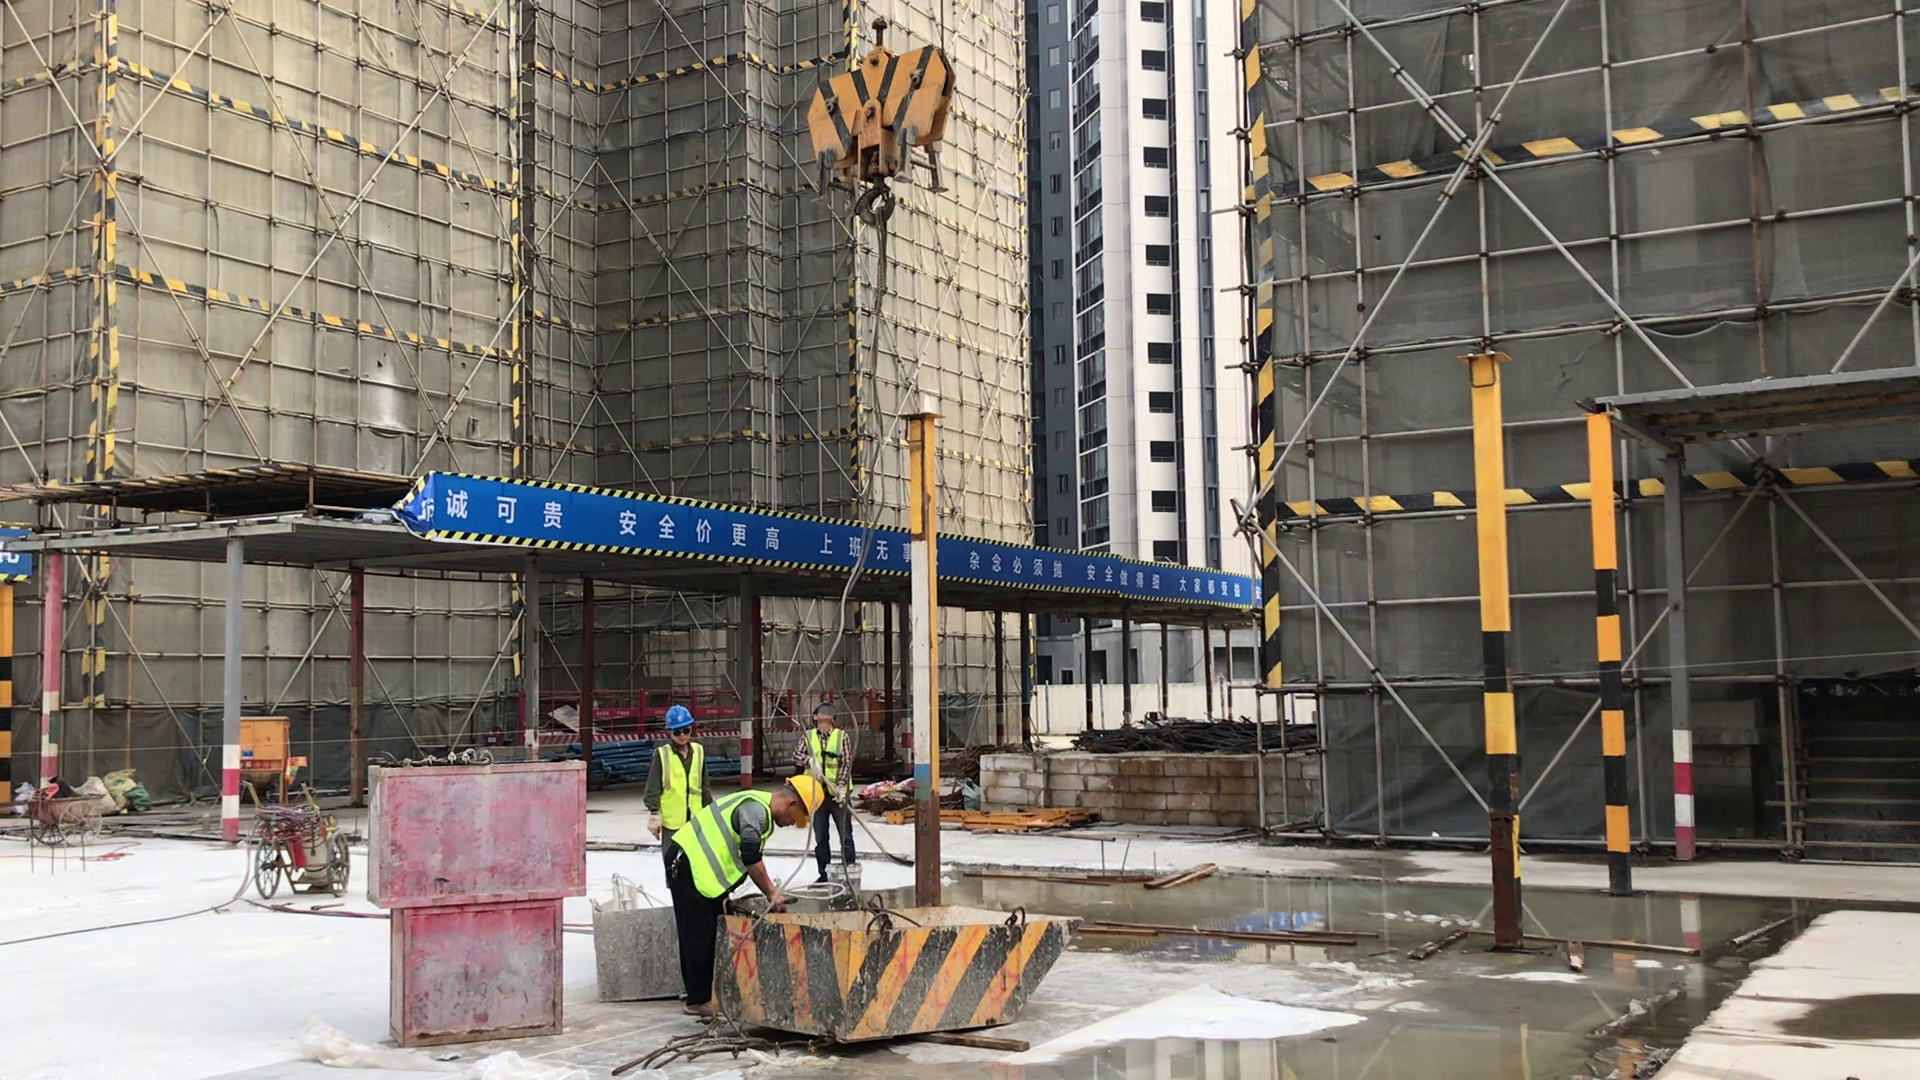ebox: (241, 713, 297, 815)
fence: (597, 689, 663, 742), (696, 691, 740, 736), (541, 691, 577, 743), (767, 689, 803, 733)
handcart: (243, 772, 355, 905), (15, 791, 108, 852)
helmet: (782, 775, 824, 822), (660, 703, 695, 730)
hook: (797, 17, 955, 223)
hopper: (697, 897, 1087, 1046), (585, 875, 666, 1006)
person: (665, 775, 828, 1015), (790, 702, 869, 884), (641, 703, 715, 839)
slogan: (433, 471, 908, 580), (944, 535, 1255, 611)
vest: (673, 789, 773, 902), (656, 741, 709, 831), (800, 726, 846, 782)
